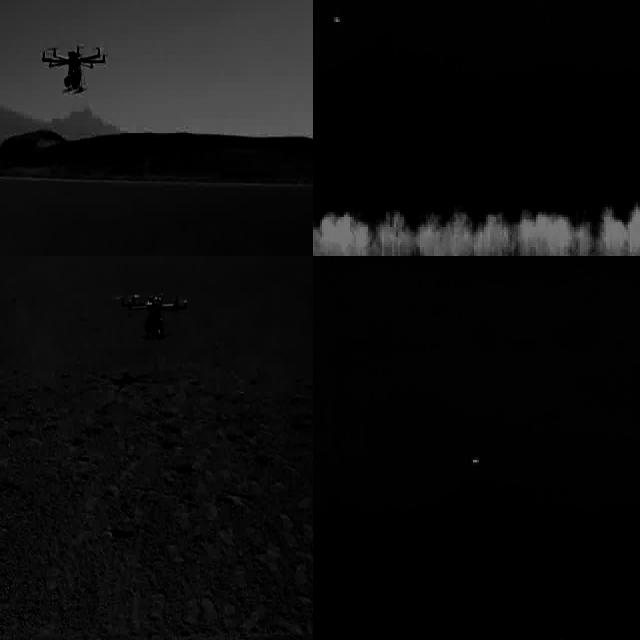1: (461, 445, 497, 483), (326, 5, 358, 40)
drone: (41, 43, 107, 101), (123, 290, 191, 343)
